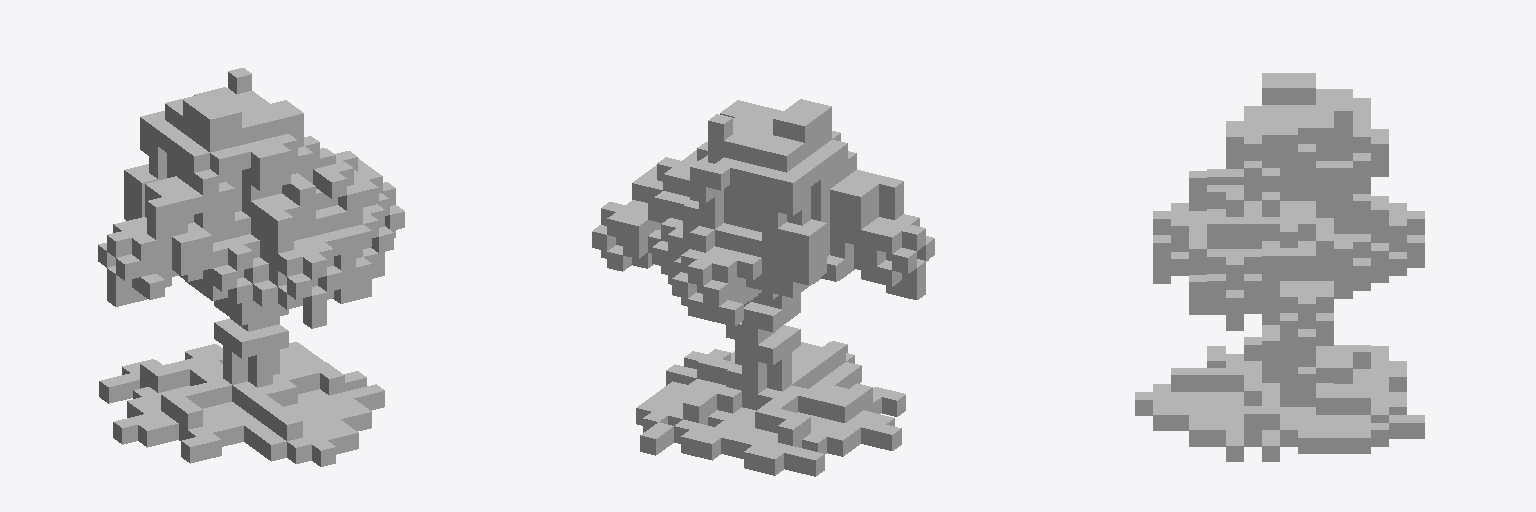
The model's file is Green Tree.obj.
3 views of the same model, side by side, from view 1: azimuth 30°, elevation 25°; view 2: azimuth 150°, elevation 25°; view 3: azimuth 270°, elevation 25° (orthographic).
Parts seen in each view (by area): view 1: object 1; view 2: object 1; view 3: object 1.
Part boxes in pixels (bbox=[...]): object 1: bbox=[98, 68, 404, 466]; object 1: bbox=[592, 99, 934, 476]; object 1: bbox=[1135, 73, 1424, 461].
Bounding box in the file's own units: 1.9 × 1.9 × 1.6.